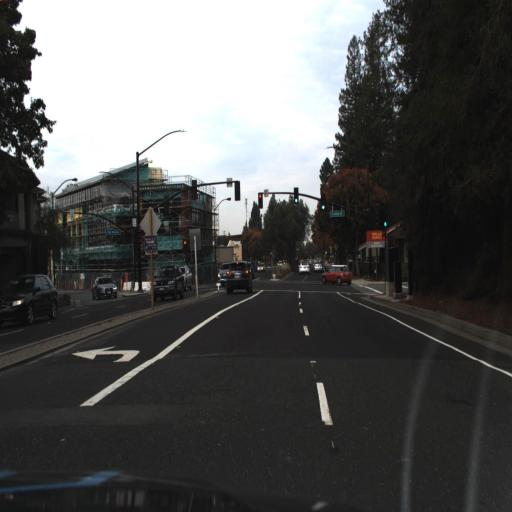car: (0, 268, 60, 331), (148, 263, 188, 298), (221, 256, 253, 295), (317, 259, 354, 288), (89, 271, 118, 305), (216, 260, 236, 293), (176, 263, 193, 297)
trafficLight-Green: (319, 193, 327, 216), (382, 210, 389, 231), (293, 186, 299, 207)
trafficLight-RedLeft: (258, 190, 262, 207)
